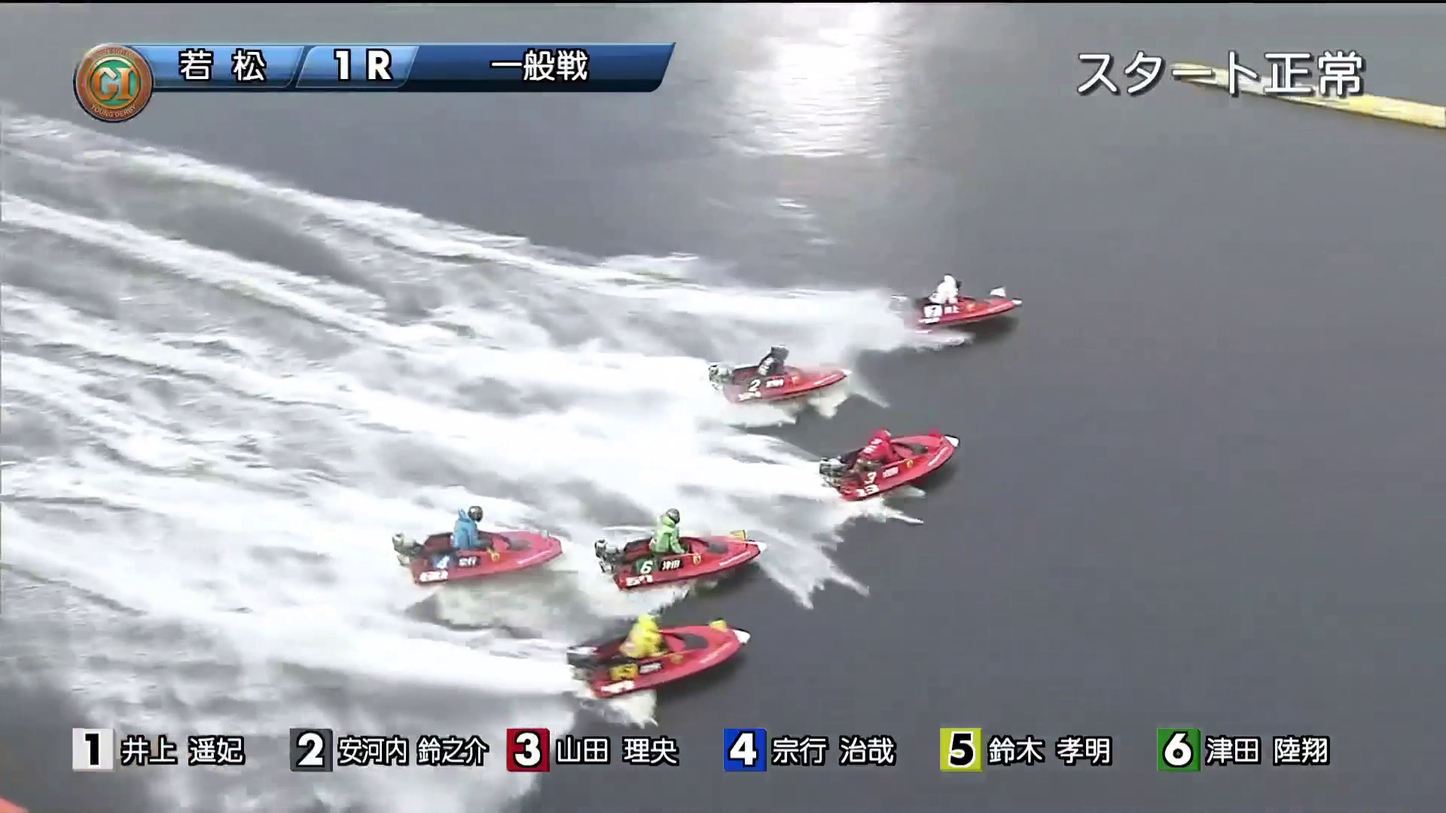１号艇: (915, 283, 1053, 336)
２号艇: (711, 349, 839, 410)
３号艇: (836, 443, 977, 489)
４号艇: (624, 516, 744, 581)
５号艇: (405, 525, 529, 580)
６号艇: (621, 634, 720, 691)
